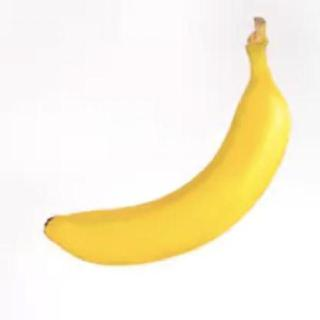banana: (42, 72, 294, 269)
